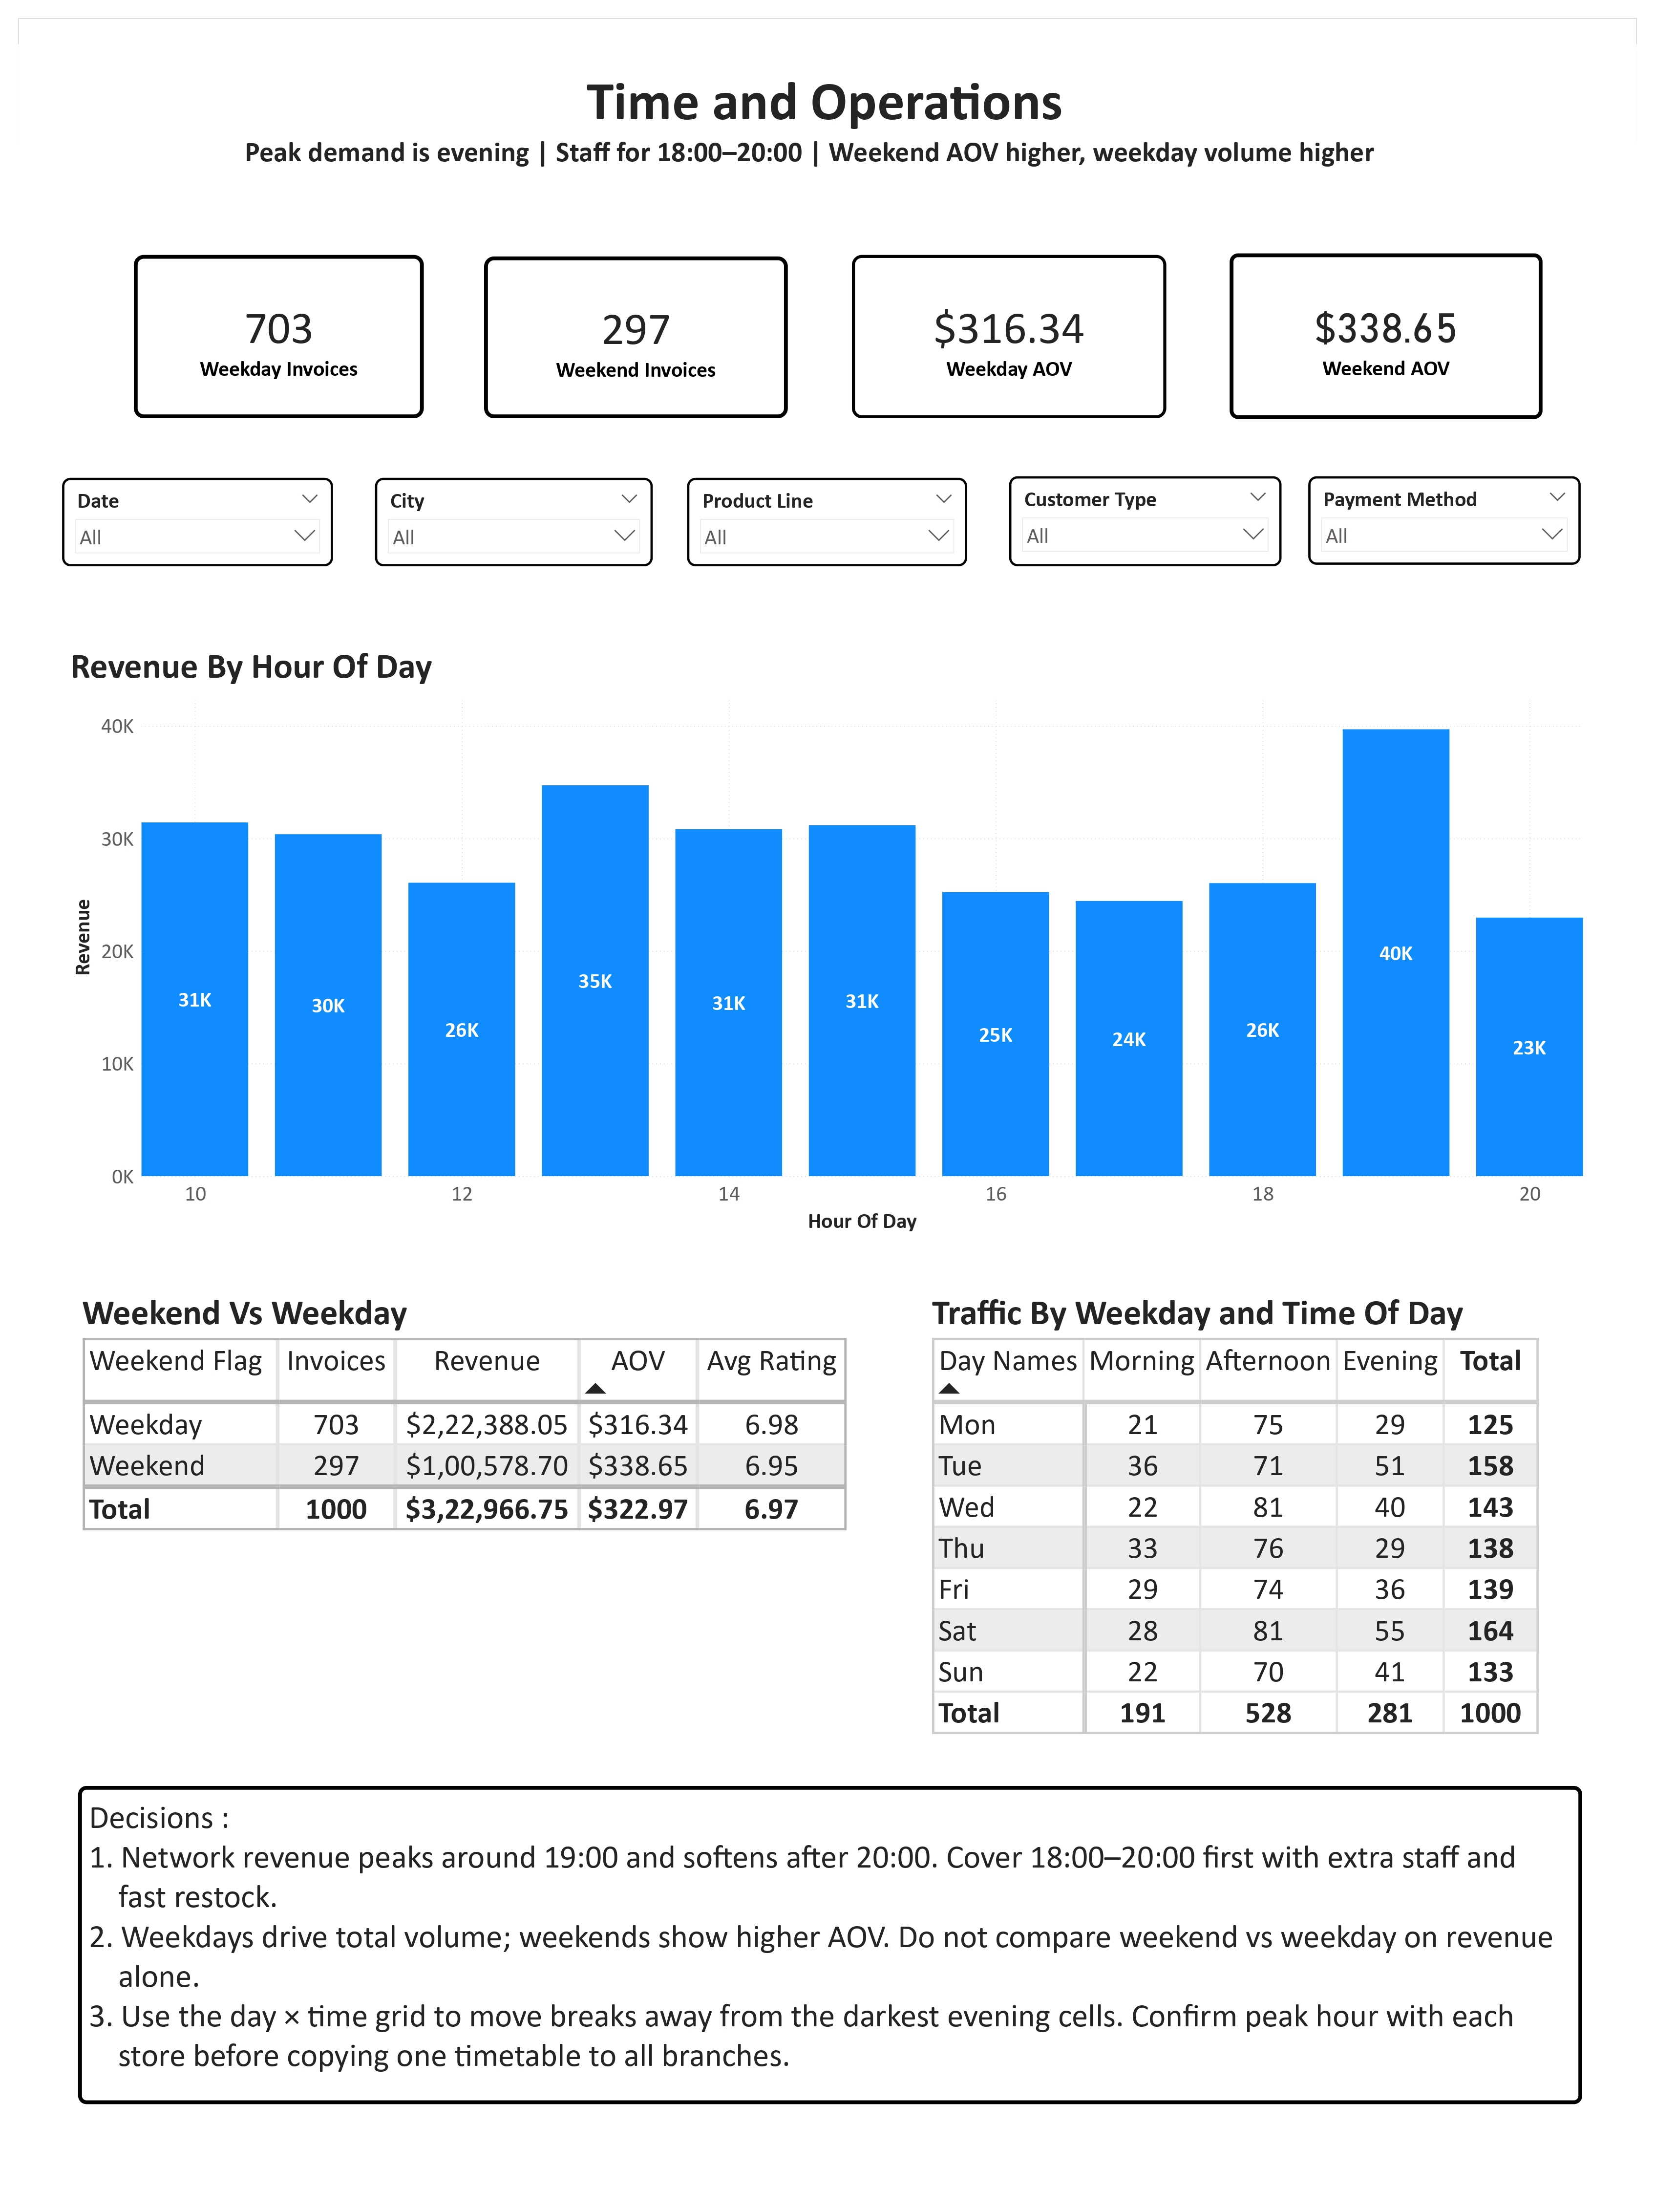

Layout of this report page (visuals, bound fields, positions):
{"tool":"powerbi","page":{"name":"Page 4","canvas":[2120,2850],"ordinal":3},"visuals":[{"type":"textbox","box":[253.1,49,1567.3,169.4],"z":0},{"type":"card","fields":{"Values":["sales_transactions.Weekday Invoices"]},"box":[151,310.2,379.6,214.3],"z":1000},{"type":"card","fields":{"Values":["sales_transactions.Weekend Invoices"]},"box":[610.2,312.2,398,212.2],"z":2000},{"type":"card","fields":{"Values":["sales_transactions.Weekday AOV"]},"box":[1091.8,310.2,412.2,214.3],"z":3000},{"type":"slicer","fields":{"Values":["DateTable.Date"]},"box":[57.1,602,355.1,116.3],"z":5000},{"type":"slicer","fields":{"Values":["sales_transactions.city"]},"box":[467.3,602,363.3,116.3],"z":6000},{"type":"slicer","fields":{"Values":["sales_transactions.product line"]},"box":[875.5,602,367.3,116.3],"z":7000},{"type":"slicer","fields":{"Values":["sales_transactions.customer_type"]},"box":[1298,600,357.1,118.4],"z":8000},{"type":"slicer","fields":{"Values":["sales_transactions.payment_method"]},"box":[1689.8,600,357.1,116.3],"z":9000},{"type":"clusteredColumnChart","title":"Revenue By Hour Of Day","fields":{"Category":["sales_transactions.hour_of_day"],"Y":["sales_transactions.Revenue"]},"box":[63.3,820.4,1991.8,777.6],"z":10000},{"type":"tableEx","title":"Weekend  Vs Weekday","fields":{"Values":["sales_transactions.weekend_flag","sales_transactions.Invoices","sales_transactions.Revenue","sales_transactions.AOV","sales_transactions.Avg Rating"]},"box":[77.6,1667.3,1014.3,322.4],"z":11000},{"type":"pivotTable","title":"Traffic By Weekday and Time Of Day","fields":{"Rows":["sales_transactions.Day Name Label"],"Columns":["sales_transactions.time_of_day_label"],"Values":["sales_transactions.Invoices"]},"box":[1191.8,1667.3,832.7,593.9],"z":12000},{"type":"textbox","box":[77.6,2316.3,1971.4,416.3],"z":13000},{"type":"card","fields":{"Values":["sales_transactions.Weekend AOV"]},"box":[1586.7,308.3,410,216.7],"z":13001}]}

Visuals, with their boxes on the page's 2120x2850 design canvas (x1, y1, x2, y2). These are canvas units, not pixel positions in the 1655x2212 screenshot, which may show the page scaled, cropped or inside an application window:
textbox: locate(253, 49, 1820, 218)
card - sales_transactions.Weekday Invoices: locate(151, 310, 531, 524)
card - sales_transactions.Weekend Invoices: locate(610, 312, 1008, 524)
card - sales_transactions.Weekday AOV: locate(1092, 310, 1504, 524)
slicer - DateTable.Date: locate(57, 602, 412, 718)
slicer - sales_transactions.city: locate(467, 602, 831, 718)
slicer - sales_transactions.product line: locate(876, 602, 1243, 718)
slicer - sales_transactions.customer_type: locate(1298, 600, 1655, 718)
slicer - sales_transactions.payment_method: locate(1690, 600, 2047, 716)
"Revenue By Hour Of Day" clusteredColumnChart: locate(63, 820, 2055, 1598)
"Weekend  Vs Weekday" tableEx: locate(78, 1667, 1092, 1990)
"Traffic By Weekday and Time Of Day" pivotTable: locate(1192, 1667, 2024, 2261)
textbox: locate(78, 2316, 2049, 2733)
card - sales_transactions.Weekend AOV: locate(1587, 308, 1997, 525)
